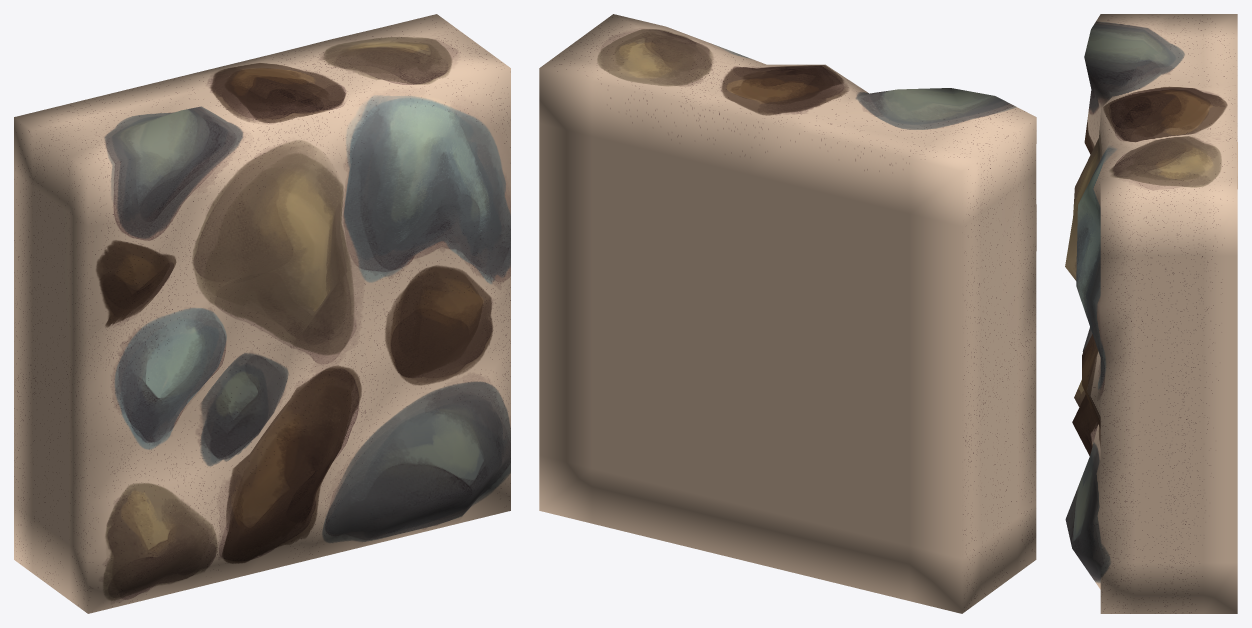
Rendered from CobbleBig.fbx.
3 views of the same model, side by side, from view 1: azimuth 30°, elevation 25°; view 2: azimuth 150°, elevation 25°; view 3: azimuth 270°, elevation 25° (orthographic). The views are drawn at different scales.
Visible parts, largest first — view 1: CobbleBig; view 2: CobbleBig; view 3: CobbleBig.
Boxes of the visible parts, x1=… form: CobbleBig: x1=14, y1=14, x2=510, y2=613; CobbleBig: x1=539, y1=14, x2=1036, y2=613; CobbleBig: x1=1065, y1=14, x2=1237, y2=613.
Size of the model in its own units: 381 by 146 by 395.
